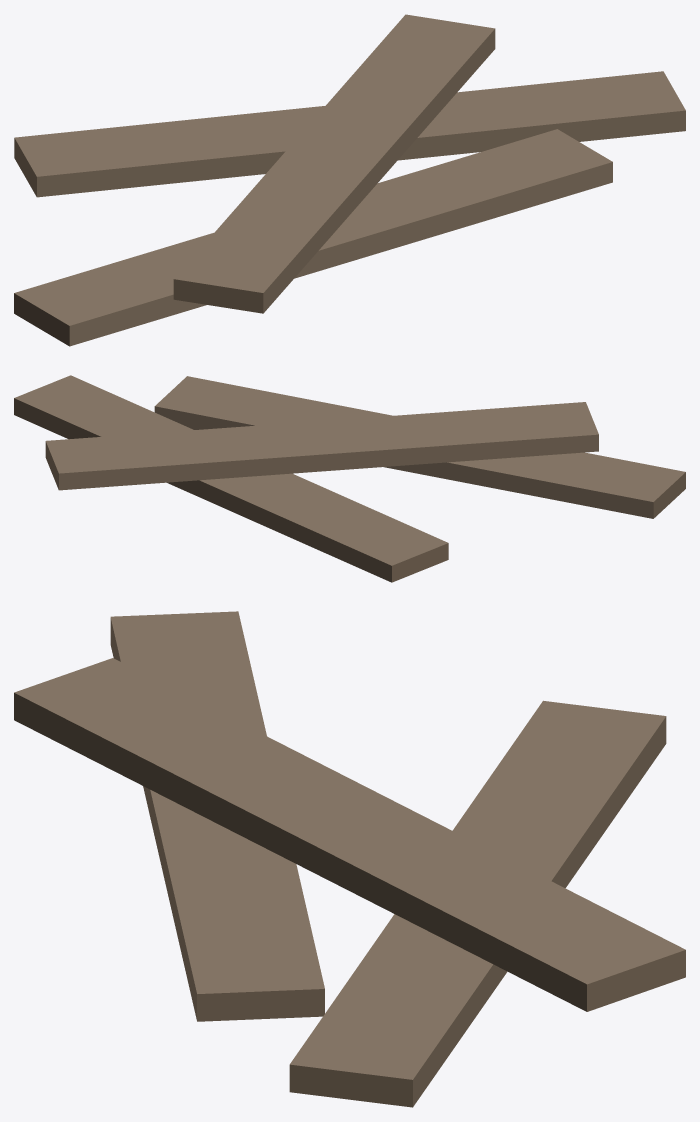
File: SD_Prop_Panks_02.fbx
The picture shows the model from 3 angles, top to bottom: view 1: azimuth 30°, elevation 25°; view 2: azimuth 150°, elevation 25°; view 3: azimuth 270°, elevation 25°; orthographic projection. The views are drawn at different scales.
Parts seen in each view (by area): view 1: SD_Prop_Panks_02; view 2: SD_Prop_Panks_02; view 3: SD_Prop_Panks_02.
Boxes of the visible parts, box(x1,y1,x2,y2) form: SD_Prop_Panks_02: box(14, 14, 685, 346); SD_Prop_Panks_02: box(14, 375, 685, 582); SD_Prop_Panks_02: box(14, 611, 685, 1107).
Size of the model in its own units: 5.1 by 0.2805 by 3.09.
